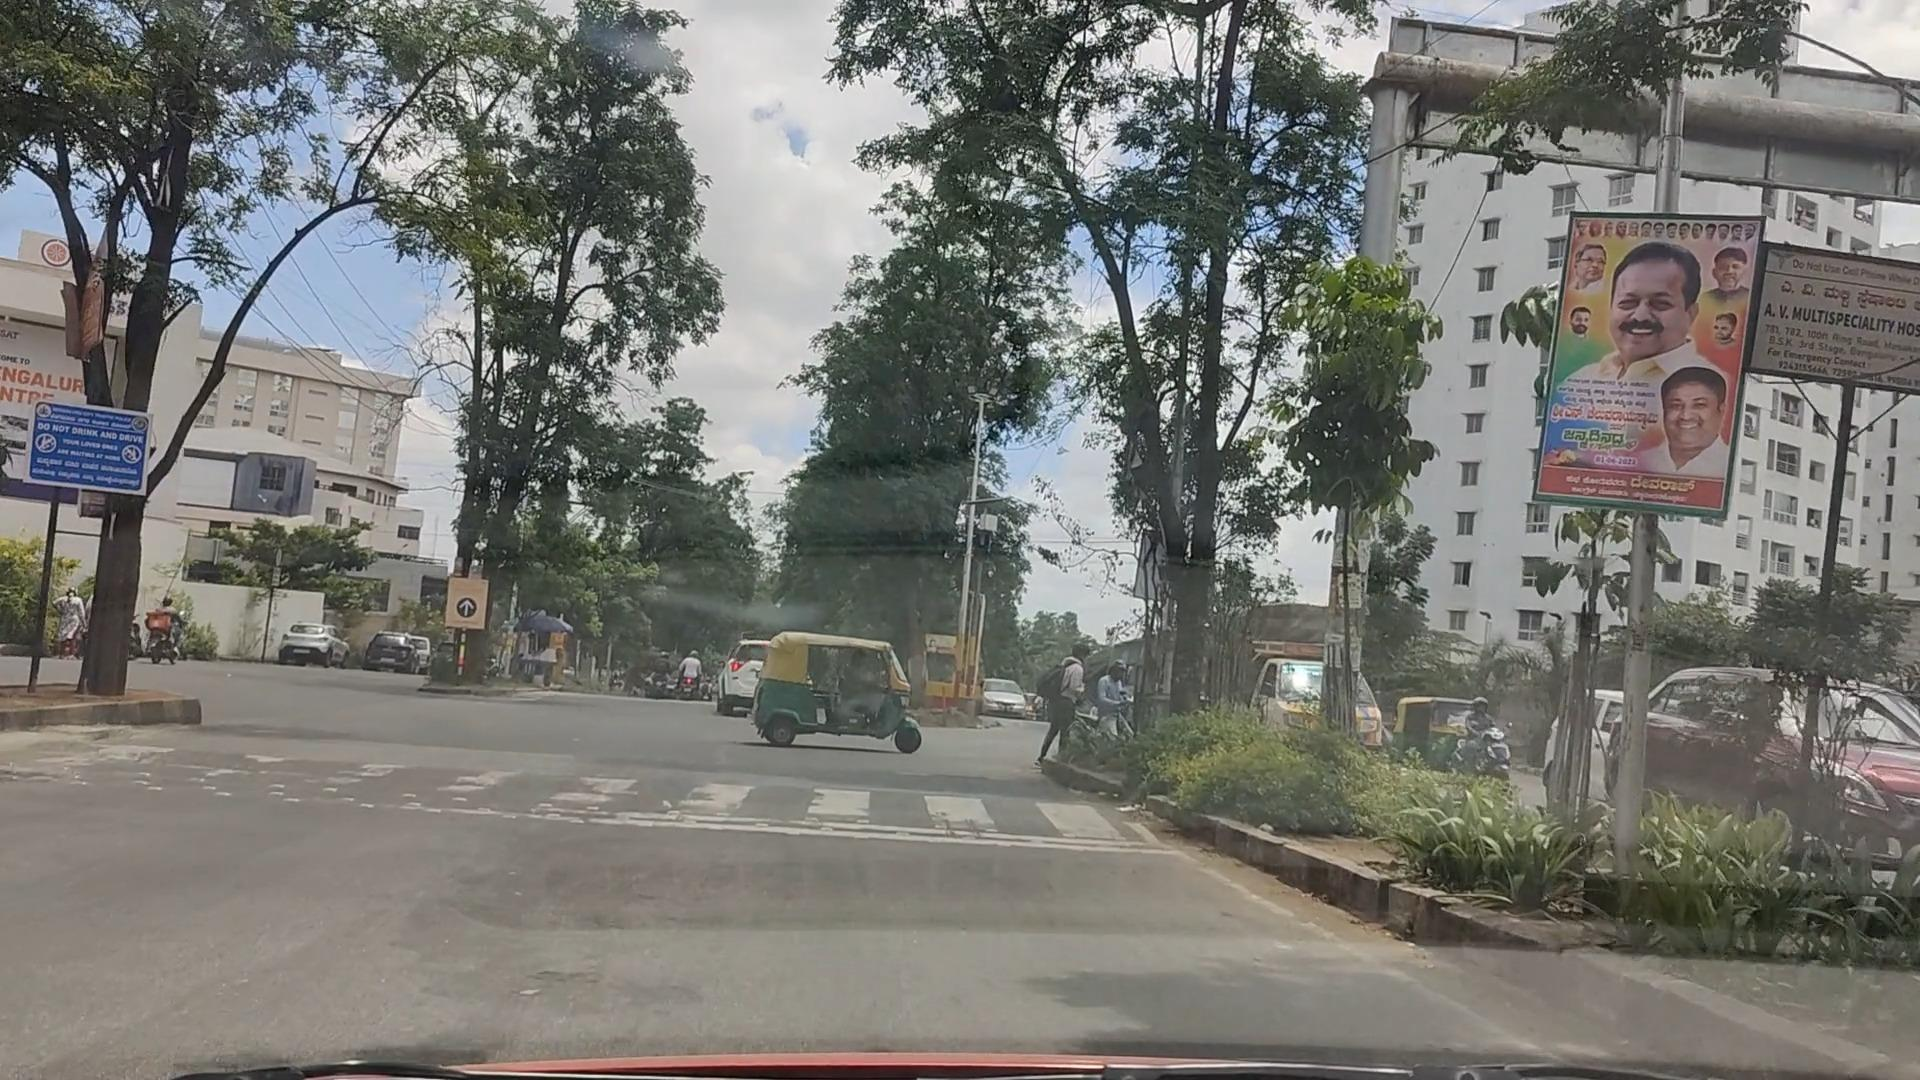LMV: (708, 632, 862, 735)
SpeedBump: (131, 753, 1122, 829)
